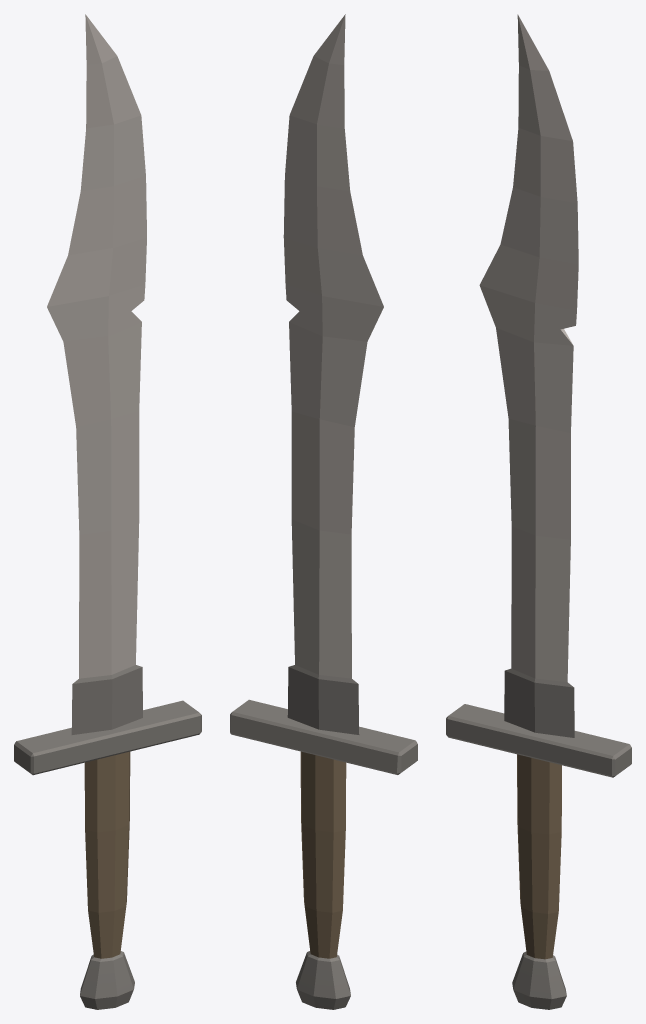
Rendered from SM_pwe_fantasy_sword_01.fbx.
The picture shows the model from 3 angles, left to right: view 1: azimuth 30°, elevation 25°; view 2: azimuth 150°, elevation 25°; view 3: azimuth 330°, elevation 25°; orthographic projection.
Visible parts, largest first — view 1: SM_pwe_fantasy_sword_01; view 2: SM_pwe_fantasy_sword_01; view 3: SM_pwe_fantasy_sword_01.
Boxes of the visible parts, x1=… form: SM_pwe_fantasy_sword_01: x1=14, y1=14, x2=201, y2=1009; SM_pwe_fantasy_sword_01: x1=230, y1=14, x2=417, y2=1009; SM_pwe_fantasy_sword_01: x1=446, y1=14, x2=631, y2=1009.
Size of the model in its own units: 18.66 by 104 by 3.77.
